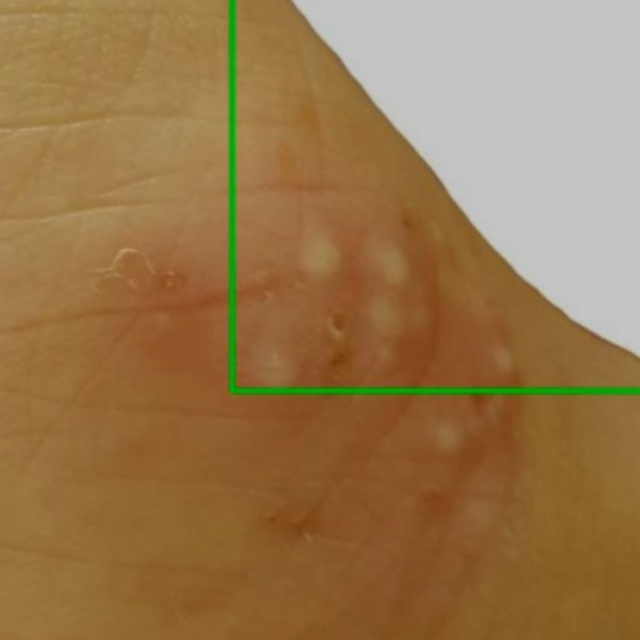Scabies: (232, 0, 639, 390)
